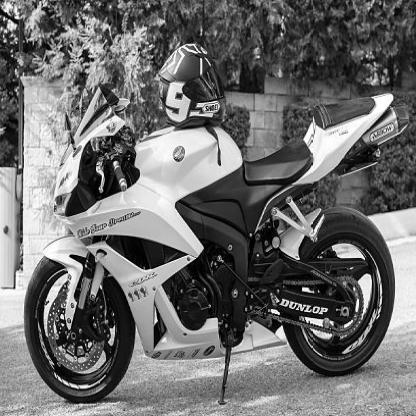Motorcycle: (22, 40, 408, 404)
